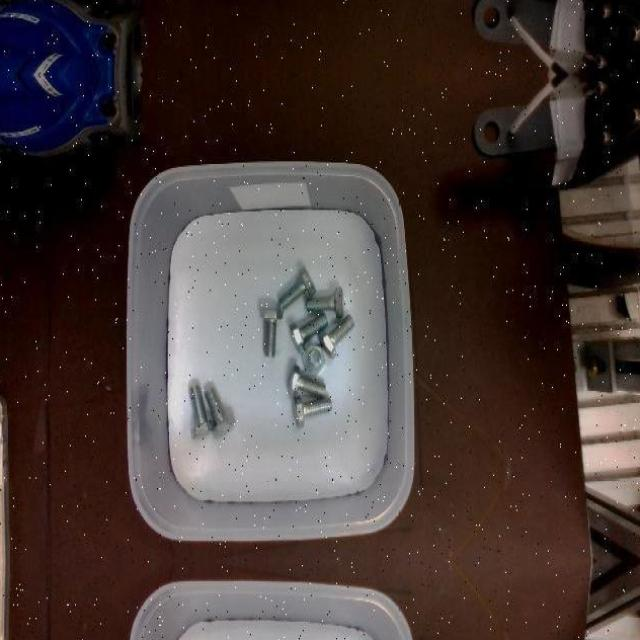screw: (278, 265, 316, 310), (205, 387, 236, 438), (289, 313, 328, 353), (319, 315, 354, 359), (189, 384, 216, 438), (289, 362, 327, 398), (293, 395, 332, 427), (306, 286, 343, 318), (260, 309, 284, 357), (302, 342, 326, 375)
